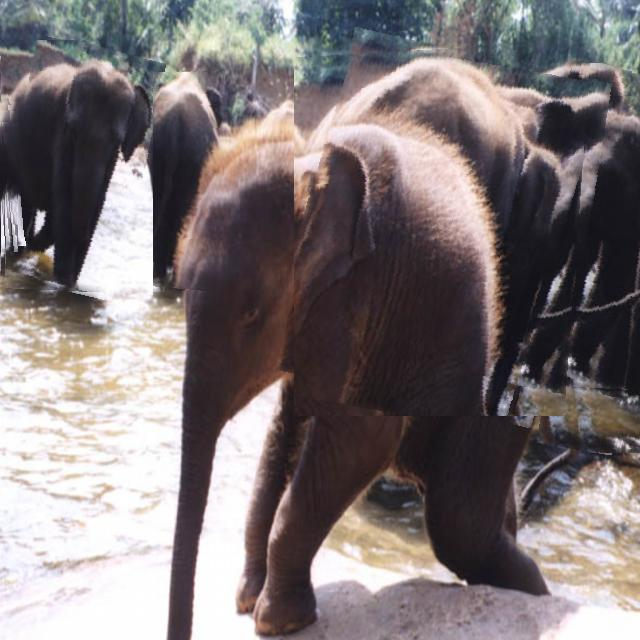elephant: (294, 40, 592, 416), (517, 63, 640, 392), (0, 40, 153, 295), (551, 139, 640, 453), (134, 72, 227, 292), (0, 105, 18, 252)
